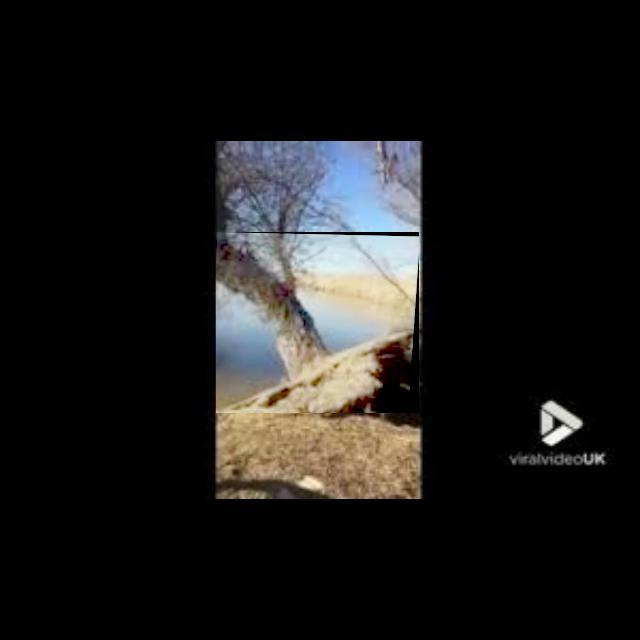fallen_tree: (216, 232, 420, 414)
